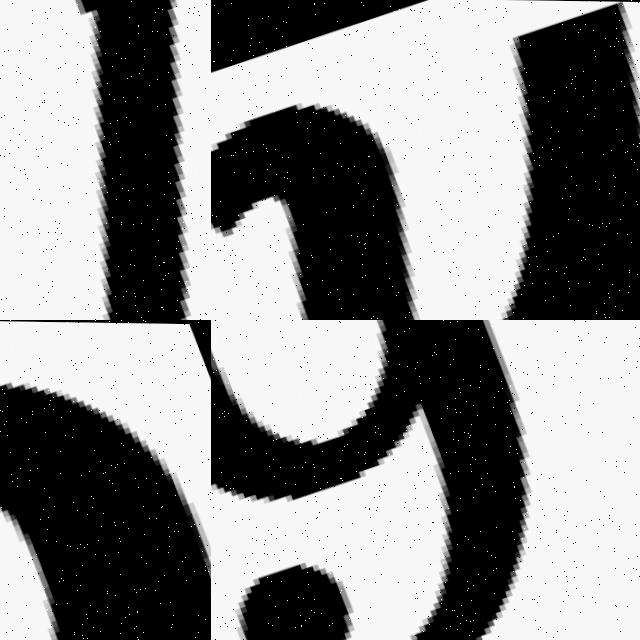6: (211, 320, 613, 640)
H: (493, 0, 640, 320), (211, 98, 418, 320)
L: (0, 0, 211, 320)
O: (0, 320, 211, 640)
